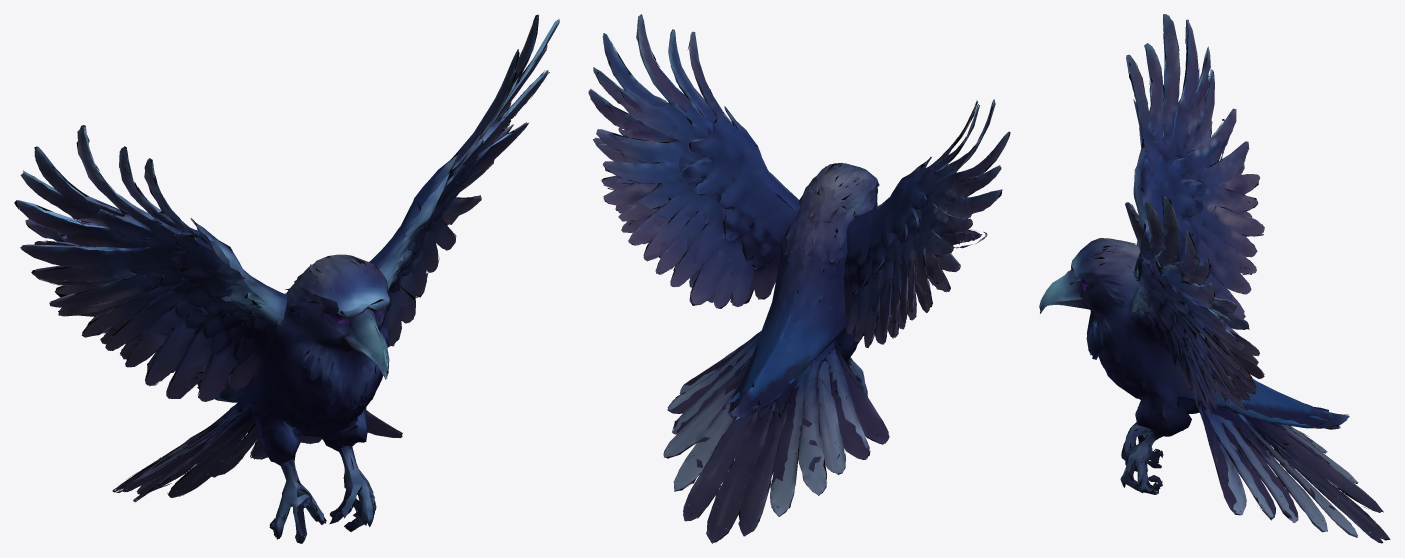
The model's file is crow.glb.
3 renders of one model, left to right at view 1: azimuth 30°, elevation 25°; view 2: azimuth 150°, elevation 25°; view 3: azimuth 270°, elevation 25°, orthographic. The views are drawn at different scales.
Parts seen in each view (by area): view 1: geometry_0.001; view 2: geometry_0.001; view 3: geometry_0.001.
Part boxes in pixels (bbox=[...]): geometry_0.001: bbox=[14, 14, 559, 543]; geometry_0.001: bbox=[588, 14, 1010, 543]; geometry_0.001: bbox=[1039, 14, 1390, 543].
Bounding box in the file's own units: 1 × 0.9463 × 0.6929.
Materials: 1 (1 with a texture image).
